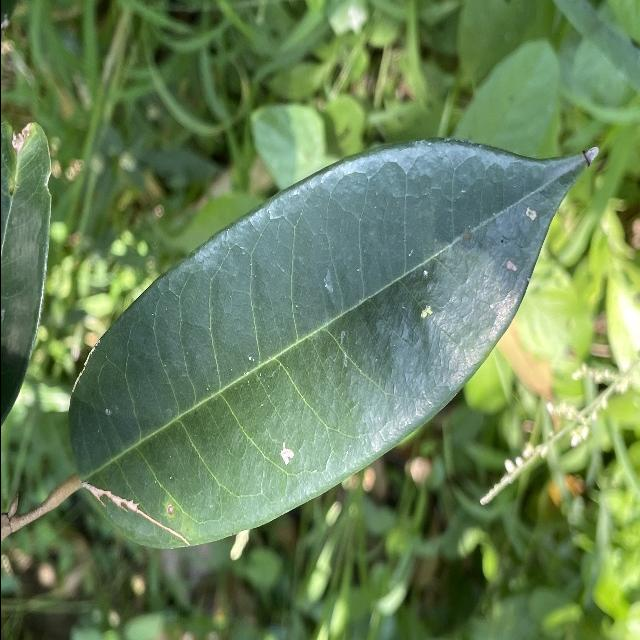No Disease: (57, 131, 611, 558)
